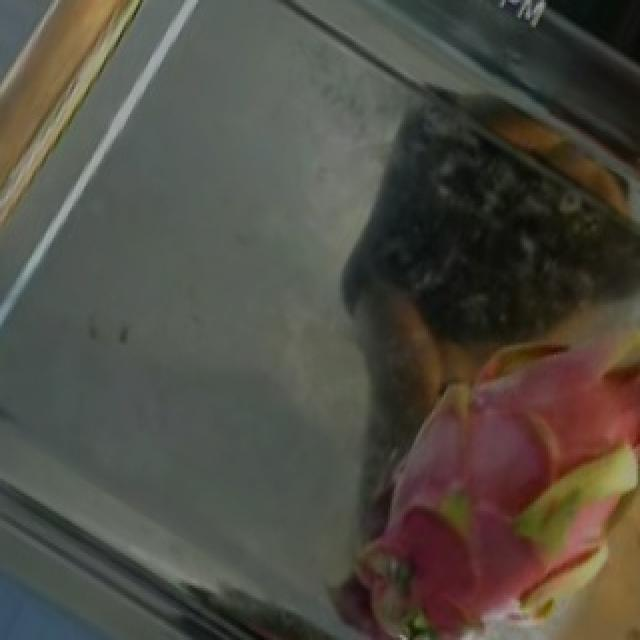fruit: (274, 235, 640, 638)
